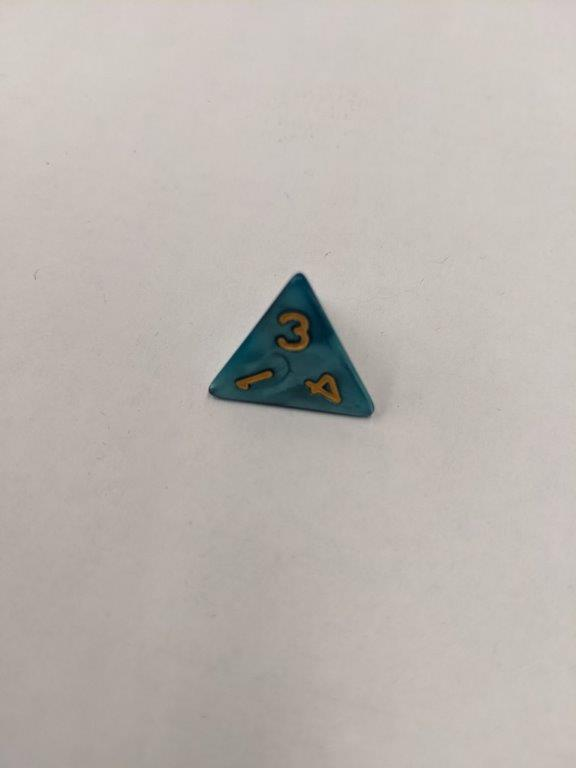d4-3: (205, 268, 379, 428)
